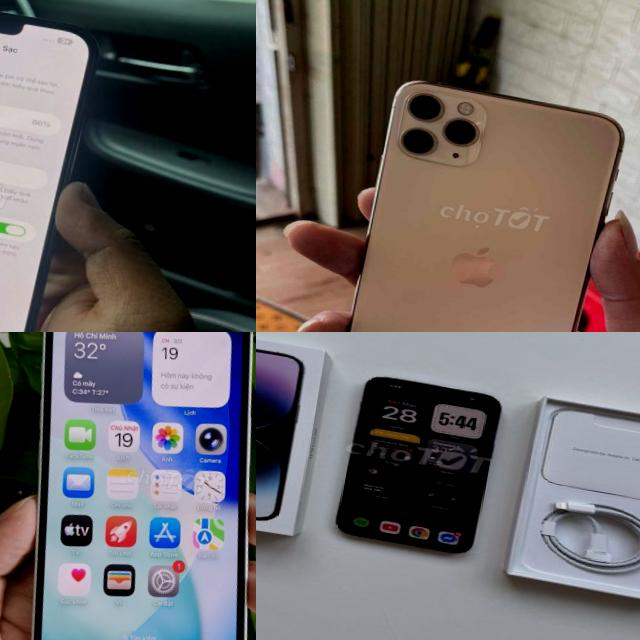gen_11: (314, 56, 640, 332)
gen_12_13: (0, 0, 95, 332)
gen_14: (331, 368, 508, 574)
gen_16: (30, 332, 251, 640)
